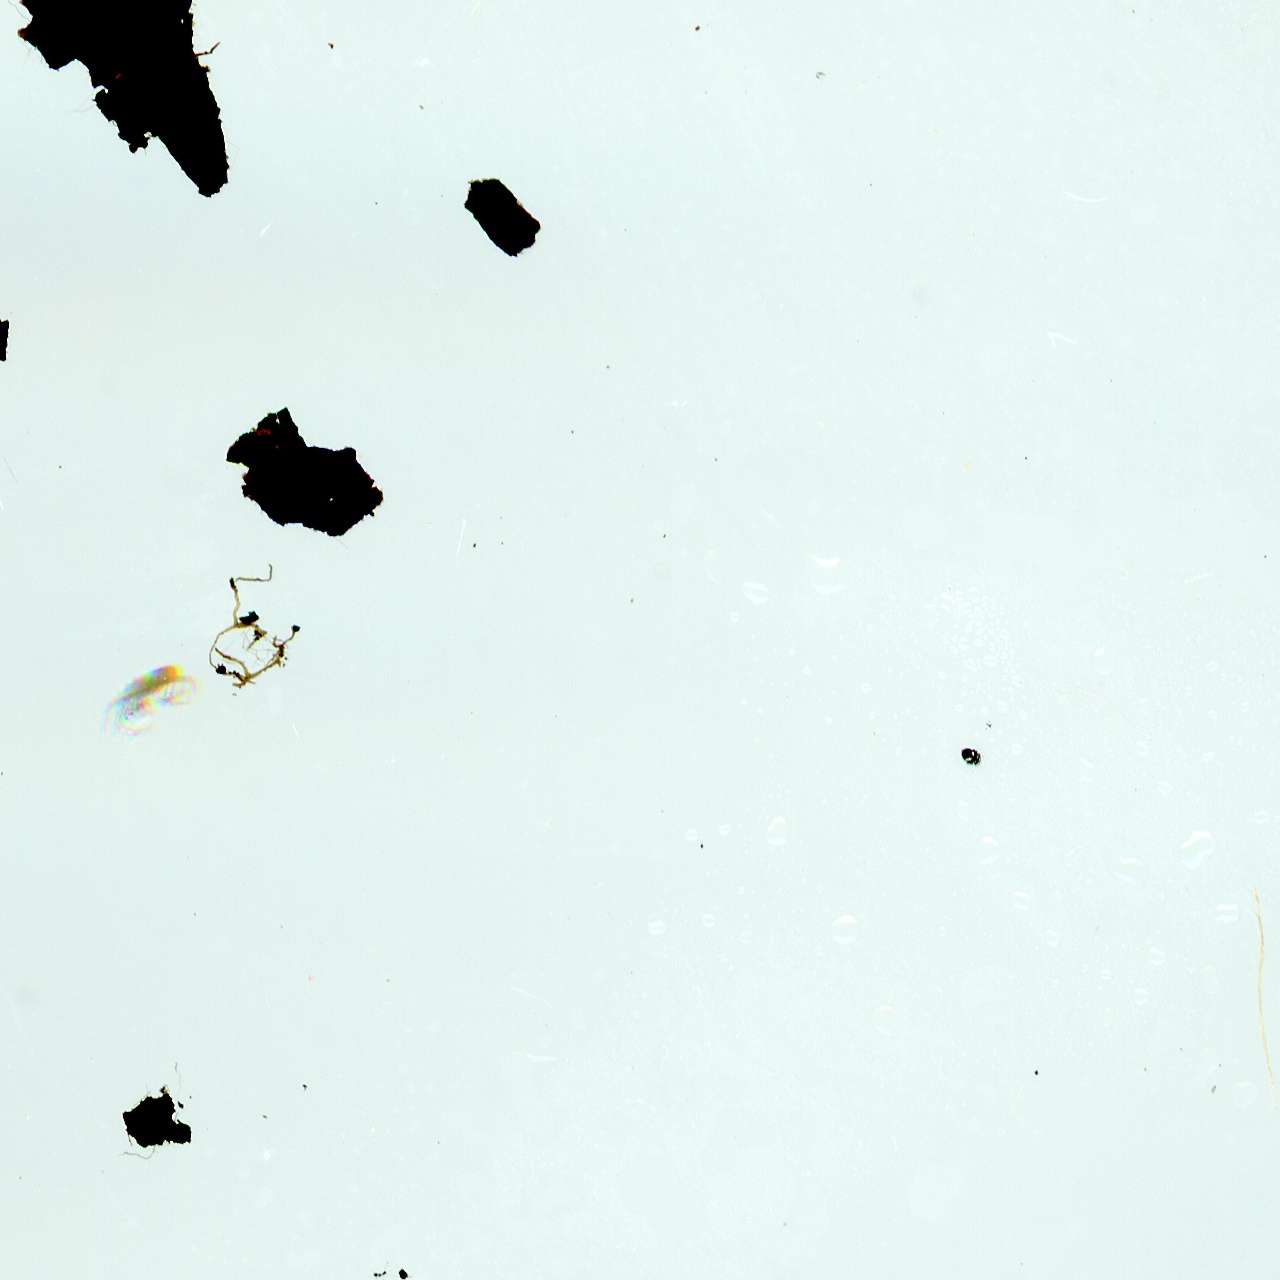arthropod: (97, 659, 199, 738)
